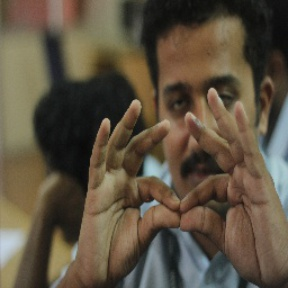B: (125, 152, 240, 250)
